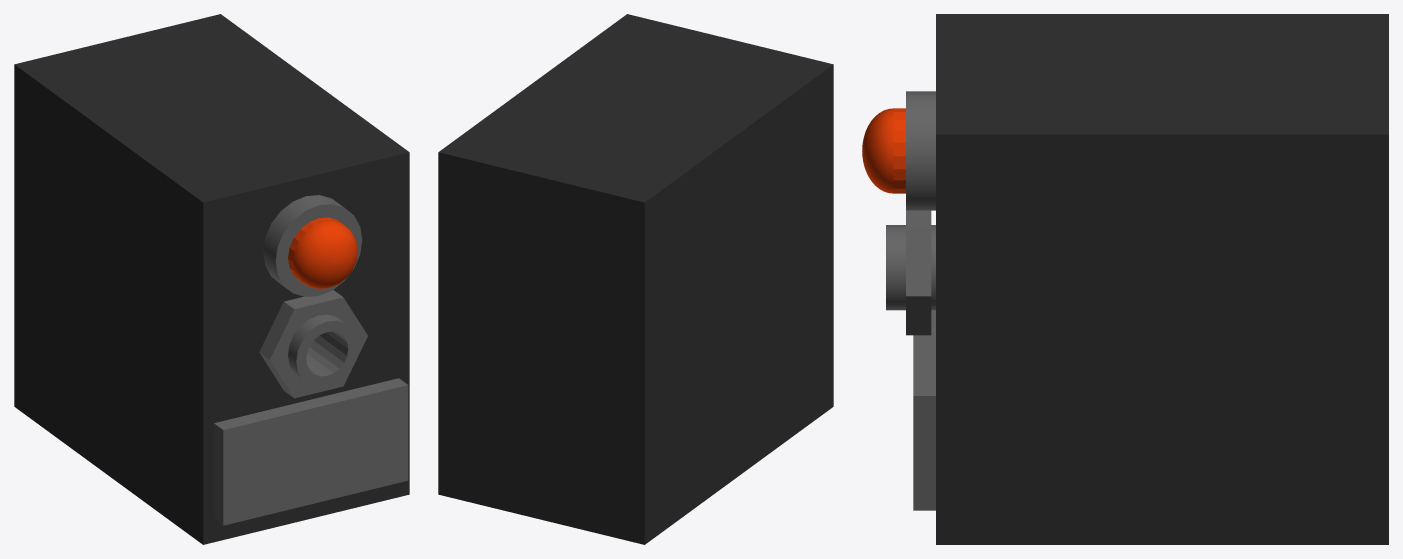
The model's file is module.fbx.
3 views of the same model, side by side, from view 1: azimuth 30°, elevation 25°; view 2: azimuth 150°, elevation 25°; view 3: azimuth 270°, elevation 25° (orthographic). The views are drawn at different scales.
Parts seen in each view (by area): view 1: Module; view 2: Module; view 3: Module.
Part boxes in pixels (bbox=[...]): Module: bbox=[14, 14, 409, 544]; Module: bbox=[438, 14, 833, 544]; Module: bbox=[862, 14, 1388, 544].
Size of the model in its own units: 6.31 by 10 by 11.63.
